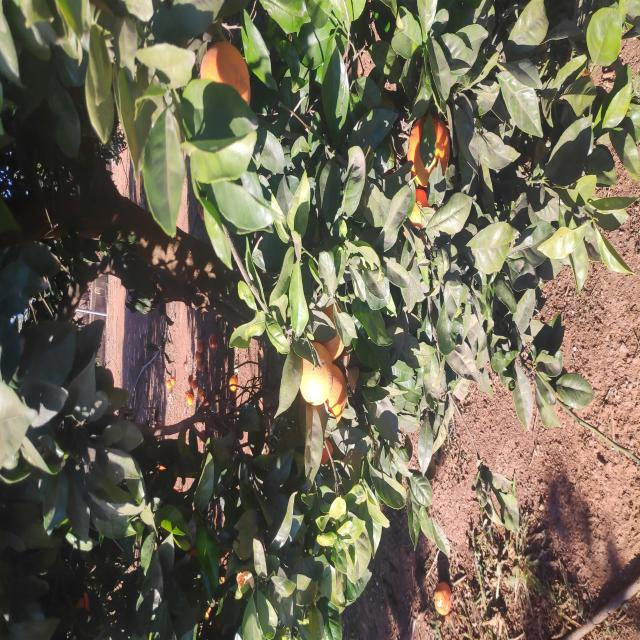Jeruk Sudah Matang: (454, 409, 528, 451), (536, 200, 598, 250), (236, 298, 296, 331), (216, 328, 278, 346), (414, 410, 450, 428), (176, 322, 204, 334)
